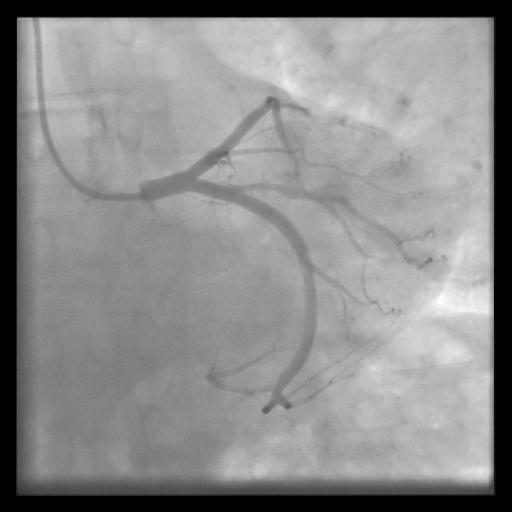Stenosis: (250, 180, 288, 195)
